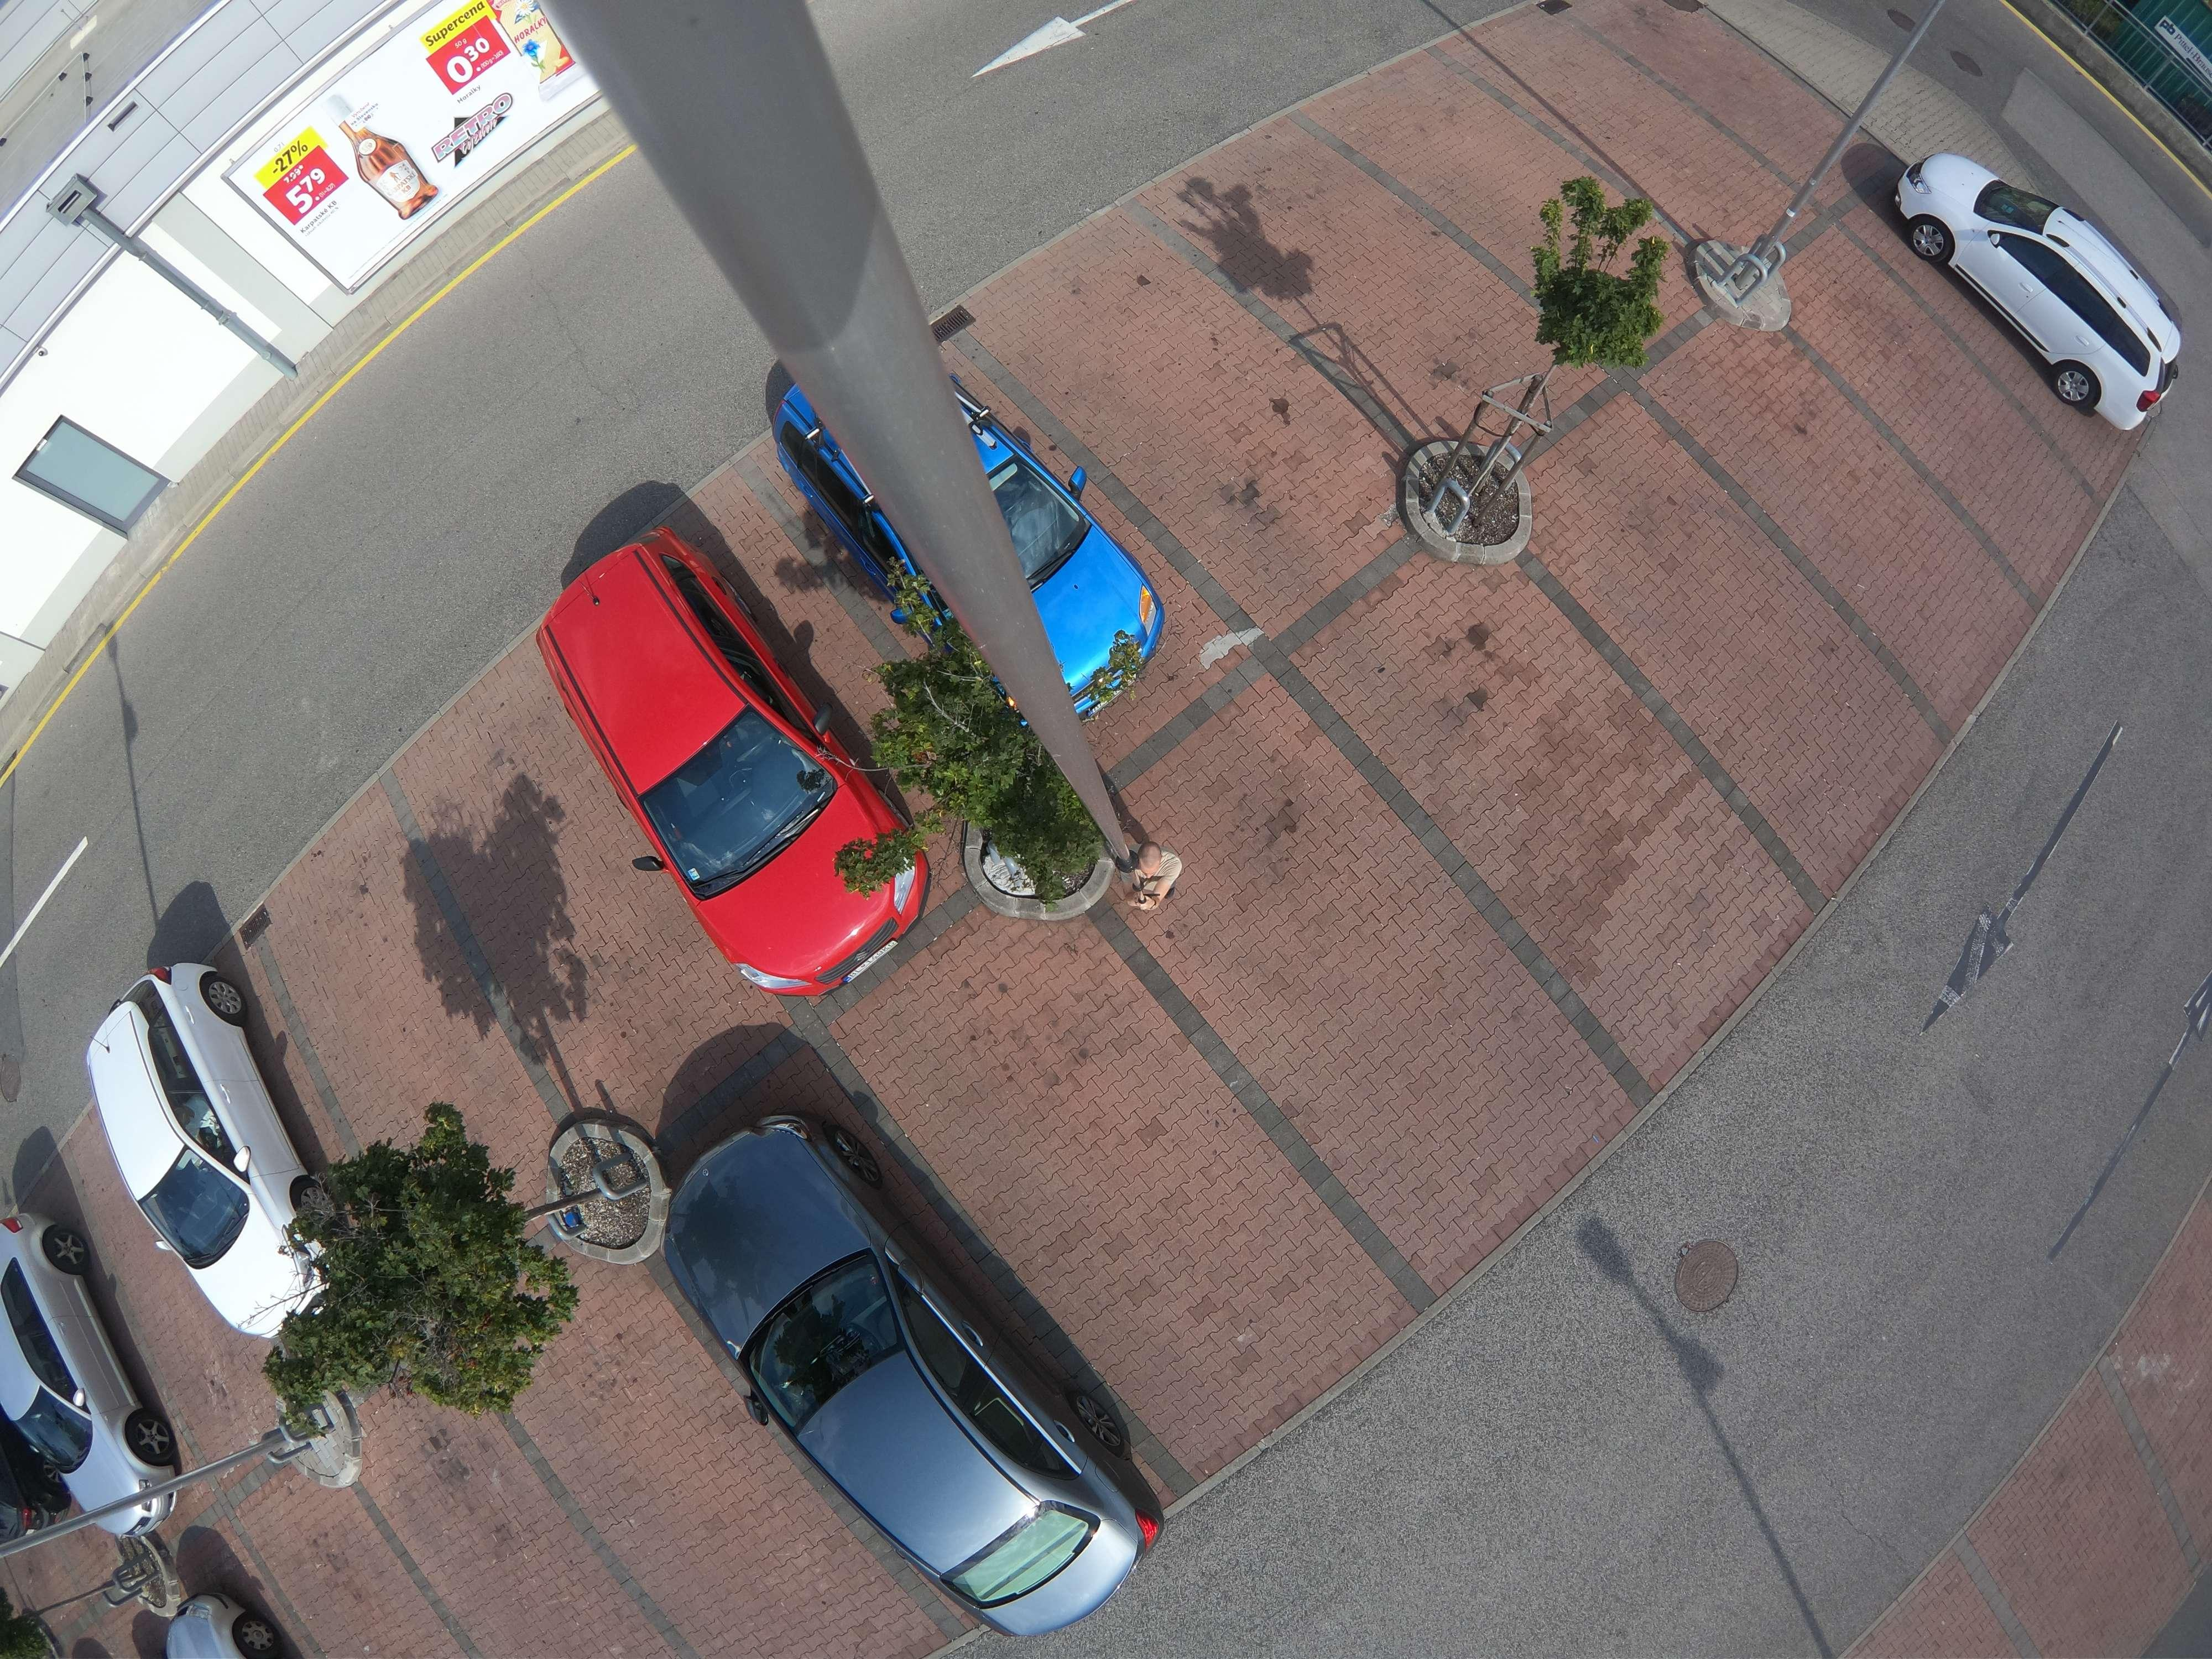empty: (683, 1105, 1158, 1628), (486, 495, 946, 1007), (740, 359, 1172, 716), (63, 938, 326, 1358), (1883, 160, 2202, 413), (0, 1194, 118, 1488)
occupied: (939, 1046, 1254, 1248), (277, 927, 536, 1121), (1228, 882, 1486, 1063), (460, 802, 681, 1007), (1423, 685, 1656, 840), (590, 1408, 799, 1568), (1073, 331, 1298, 465), (1616, 526, 1806, 657), (1280, 213, 1456, 331), (427, 1516, 601, 1633), (1764, 439, 1914, 545), (1872, 347, 2010, 443), (294, 1553, 427, 1647), (1406, 127, 1554, 211), (1662, 37, 1766, 105), (1575, 82, 1684, 143)
